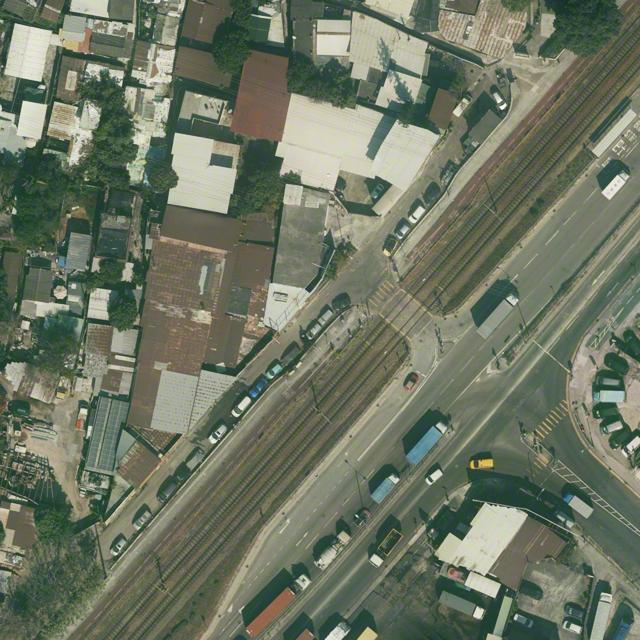panel: (99, 400, 130, 472), (86, 397, 110, 468)
